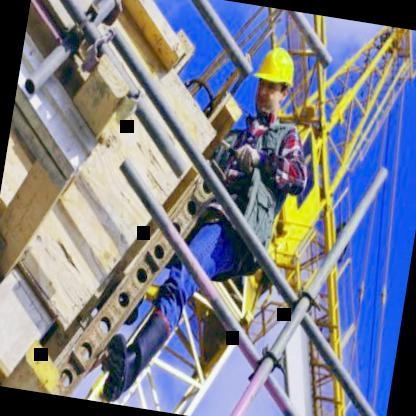helmet: (240, 44, 302, 121)
